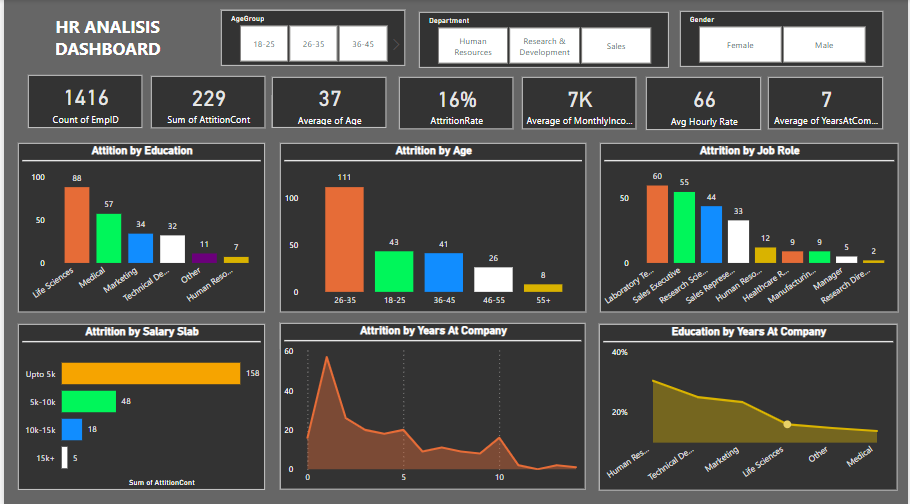

Layout of this report page (visuals, bound fields, positions):
{"tool":"powerbi","page":{"name":"Overview","canvas":[1280,720],"ordinal":0},"visuals":[{"type":"card","title":"Overall Empployee","fields":{"Values":["CountNonNull(HR_Analytics.EmpID)"]},"box":[34,106.3,161.6,75.1],"z":0},{"type":"card","title":"Attrition","fields":{"Values":["Sum(HR_Analytics.AttitionCont)"]},"box":[208.3,107.7,161.6,73.7],"z":1000},{"type":"card","title":"Attirition Rate","fields":{"Values":["HR_Analytics.AttritionRate"]},"box":[559.8,109.1,161.6,73.7],"z":2000},{"type":"card","title":"Avg Age ","fields":{"Values":["Avg(HR_Analytics.Age)"]},"box":[379.8,109.1,161.6,72.3],"z":3000},{"type":"card","title":"Avg Salary","fields":{"Values":["Avg(HR_Analytics.MonthlyIncome)"]},"box":[734.2,109.1,161.6,73.7],"z":4000},{"type":"card","title":"Avg Years","fields":{"Values":["Avg(HR_Analytics.YearsAtCompany)"]},"box":[1082.8,109.1,163,73.7],"z":5000},{"type":"clusteredColumnChart","title":"Attition by Education","fields":{"Category":["HR_Analytics.EducationField"],"Y":["Sum(HR_Analytics.AttitionCont)"]},"box":[20,202.9,350,240],"z":6000},{"type":"clusteredColumnChart","title":"Attrition by Age","fields":{"Y":["Sum(HR_Analytics.AttitionCont)"],"Category":["HR_Analytics.AgeGroup"]},"box":[391.4,202.9,434.3,240],"z":7000},{"type":"clusteredBarChart","title":"Attrition by Salary Slab","fields":{"Category":["HR_Analytics.SalarySlab"],"Y":["Sum(HR_Analytics.AttitionCont)"]},"box":[20.2,459.4,349.9,234.7],"z":8000},{"type":"areaChart","title":"Attrition by Years At Company","fields":{"Category":["HR_Analytics.YearsAtCompany"],"Y":["Sum(HR_Analytics.AttitionCont)"]},"box":[391.7,457.9,433.4,236.2],"z":9000},{"type":"slicer","fields":{"Values":["HR_Analytics.Department"]},"box":[587.5,17.3,354.2,79.2],"z":10000},{"type":"textbox","box":[36,15.8,223.2,77.8],"z":11000},{"type":"slicer","fields":{"Values":["HR_Analytics.Gender"]},"box":[957.6,15.8,288,79.2],"z":12000},{"type":"card","title":"Avg Years","fields":{"Values":["Avg(HR_Analytics.HourlyRate)"]},"box":[909.9,109.1,163,75.1],"z":13000},{"type":"slicer","fields":{"Values":["HR_Analytics.AgeGroup"]},"box":[308.2,14.4,260.6,79.2],"z":14000},{"type":"clusteredColumnChart","title":"Attrition by Job Role","fields":{"Y":["Sum(HR_Analytics.AttitionCont)"],"Category":["HR_Analytics.JobRole"]},"box":[844.3,202.9,422.9,240],"z":15000},{"type":"areaChart","title":"Education by Years At Company","fields":{"Y":["HR_Analytics.AttritionRate"],"Category":["HR_Analytics.EducationField"]},"box":[843.8,459.4,423.4,236.2],"z":16000}]}

Visuals, with their boxes in screenshot pixels (x1, y1, x2, y2), scaled from the page's 1280x720 canvas onto the 910x504 screenshot:
"Overall Empployee" card: crop(24, 74, 139, 127)
"Attrition" card: crop(148, 75, 263, 127)
"Attirition Rate" card: crop(398, 76, 513, 128)
"Avg Age " card: crop(270, 76, 385, 127)
"Avg Salary" card: crop(522, 76, 637, 128)
"Avg Years" card: crop(770, 76, 886, 128)
"Attition by Education" clusteredColumnChart: crop(14, 142, 263, 310)
"Attrition by Age" clusteredColumnChart: crop(278, 142, 587, 310)
"Attrition by Salary Slab" clusteredBarChart: crop(14, 322, 263, 486)
"Attrition by Years At Company" areaChart: crop(278, 321, 587, 486)
slicer - HR_Analytics.Department: crop(418, 12, 669, 68)
textbox: crop(26, 11, 184, 66)
slicer - HR_Analytics.Gender: crop(681, 11, 886, 66)
"Avg Years" card: crop(647, 76, 763, 129)
slicer - HR_Analytics.AgeGroup: crop(219, 10, 404, 66)
"Attrition by Job Role" clusteredColumnChart: crop(600, 142, 901, 310)
"Education by Years At Company" areaChart: crop(600, 322, 901, 487)
